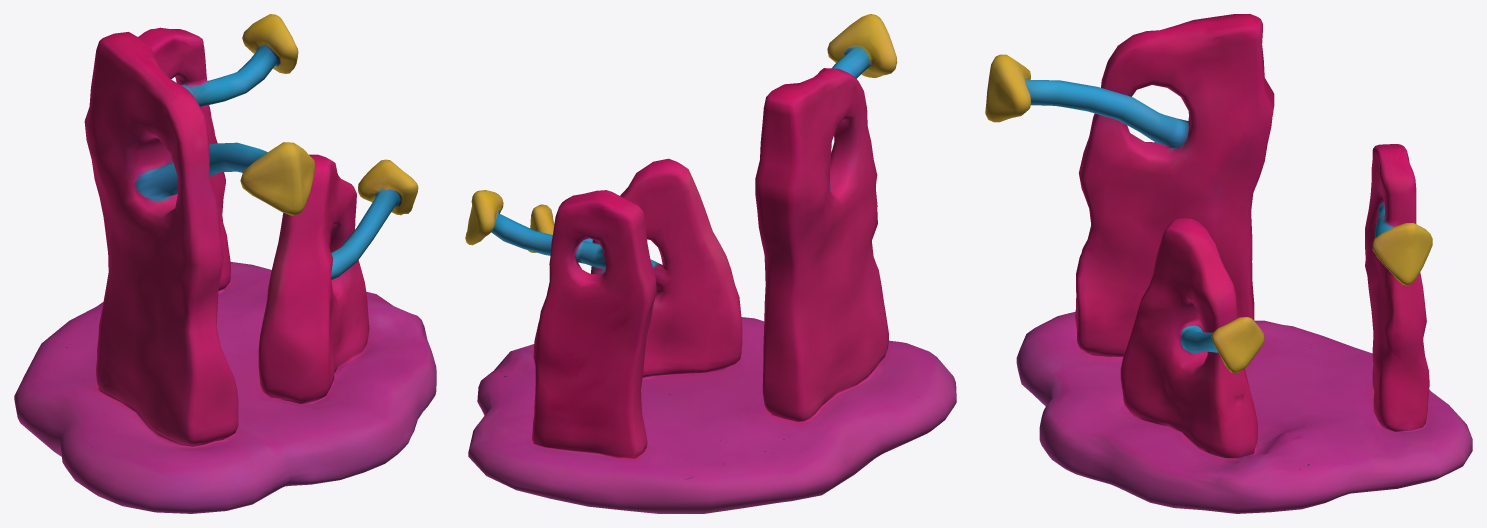
3 views of the same model, side by side, from view 1: azimuth 30°, elevation 25°; view 2: azimuth 150°, elevation 25°; view 3: azimuth 270°, elevation 25° (orthographic). The views are drawn at different scales.
Visible parts, largest first — view 1: tripo_node_792d319a-94f9-4899-a9a8-cd8830ae2195; view 2: tripo_node_792d319a-94f9-4899-a9a8-cd8830ae2195; view 3: tripo_node_792d319a-94f9-4899-a9a8-cd8830ae2195.
Boxes of the visible parts, x1,y1,x2,y2 form: tripo_node_792d319a-94f9-4899-a9a8-cd8830ae2195: (14,14,436,513); tripo_node_792d319a-94f9-4899-a9a8-cd8830ae2195: (465,14,956,513); tripo_node_792d319a-94f9-4899-a9a8-cd8830ae2195: (985,14,1472,513).
Size of the model in its own units: 0.9002 by 0.8708 by 1.
Materials: 1 (1 with a texture image).
